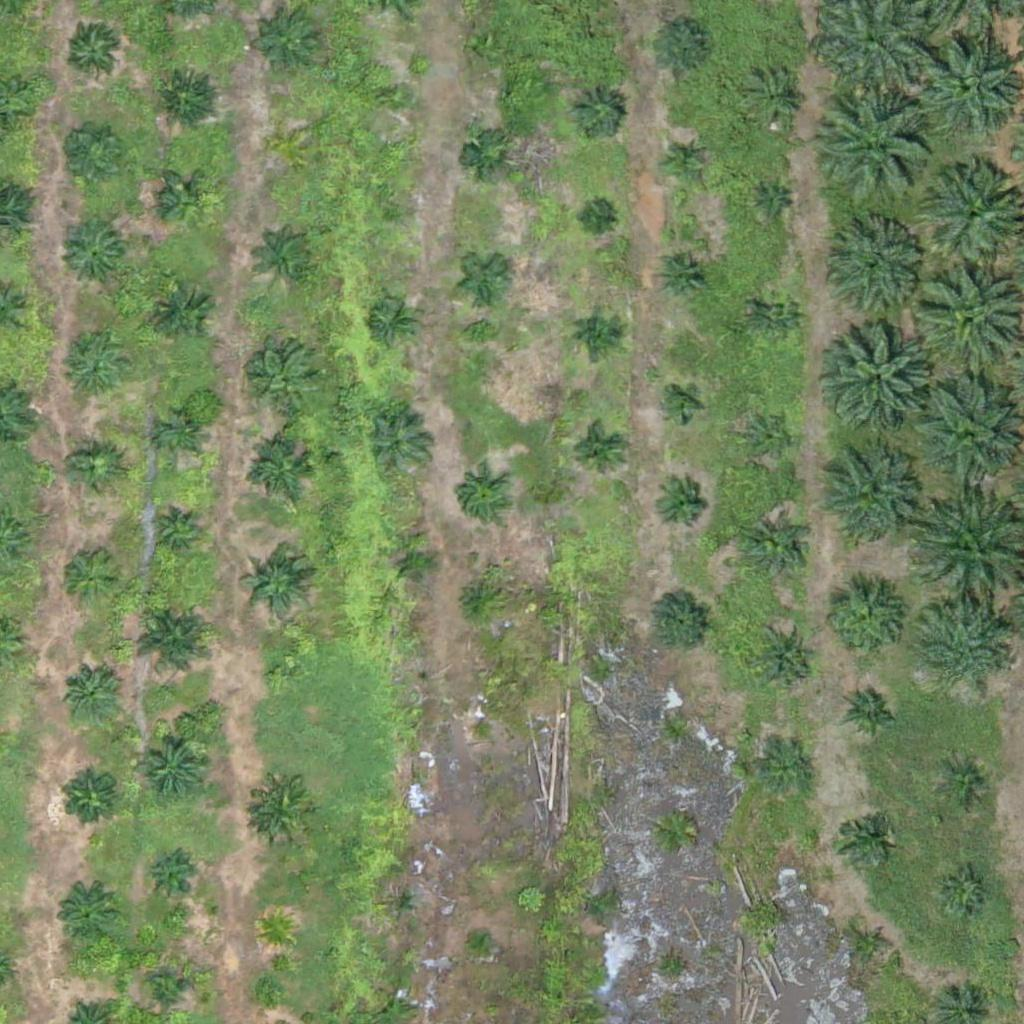Kelapa_Sawit: (825, 90, 937, 203), (918, 34, 1018, 135), (829, 328, 929, 428), (817, 454, 917, 554), (819, 577, 906, 665), (834, 224, 921, 312), (919, 604, 1006, 692), (131, 597, 218, 685), (239, 548, 314, 624), (53, 118, 128, 194), (134, 728, 209, 803), (57, 546, 120, 609), (62, 339, 125, 402), (60, 663, 123, 726), (754, 629, 817, 692), (368, 412, 431, 475), (649, 588, 712, 651), (251, 780, 314, 843), (256, 11, 319, 74), (155, 66, 218, 129), (649, 16, 712, 79), (61, 223, 123, 286), (54, 883, 116, 946), (58, 766, 120, 829), (748, 519, 810, 582), (151, 283, 213, 346), (251, 440, 313, 503), (253, 350, 316, 412), (259, 228, 321, 291), (842, 681, 904, 744), (571, 425, 621, 476), (655, 479, 705, 530), (748, 73, 798, 124), (571, 86, 621, 137), (389, 538, 439, 589), (451, 573, 501, 624), (69, 445, 119, 495), (141, 854, 191, 904), (761, 748, 811, 798), (837, 812, 887, 862), (753, 291, 803, 341), (573, 308, 623, 358), (461, 253, 511, 303), (161, 175, 211, 225), (368, 296, 418, 346), (456, 471, 506, 521), (69, 27, 119, 77), (463, 133, 513, 183), (939, 868, 989, 918), (940, 759, 990, 809), (659, 136, 709, 186), (742, 410, 792, 460), (658, 250, 708, 300), (142, 968, 192, 1018), (150, 506, 199, 557), (471, 29, 509, 67), (662, 385, 700, 423), (854, 926, 892, 964), (257, 911, 295, 949), (160, 415, 197, 453), (384, 885, 421, 923), (760, 191, 785, 216), (583, 205, 608, 230), (382, 198, 407, 223), (382, 82, 407, 107), (277, 136, 302, 161), (469, 925, 494, 950), (466, 716, 491, 741), (267, 663, 292, 688)
